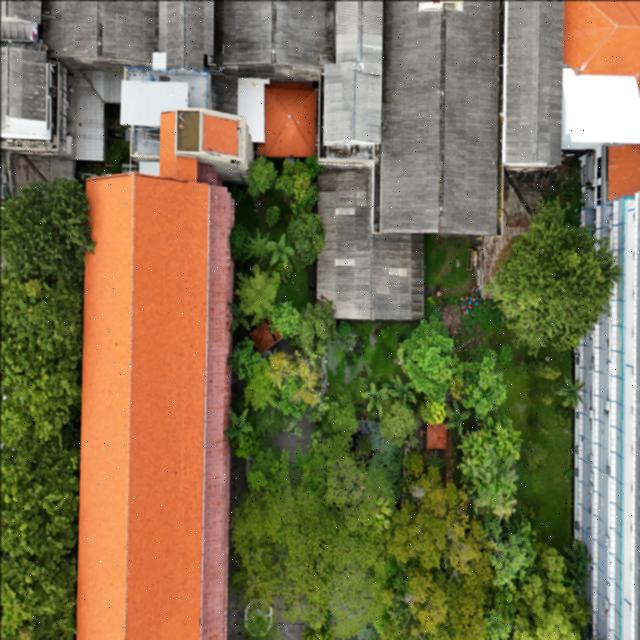Tree: (488, 200, 622, 356), (396, 313, 459, 405), (274, 155, 316, 206), (261, 230, 295, 274), (222, 403, 253, 450), (362, 378, 387, 418)
